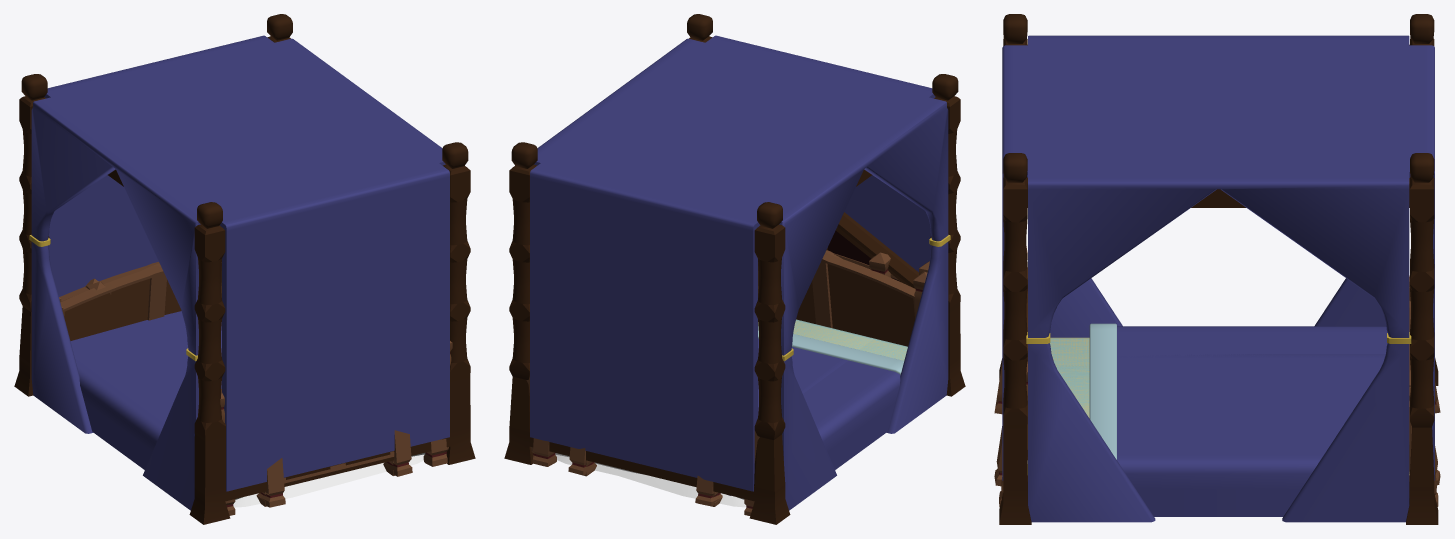
The model's file is Beds.fbx.
3 renders of one model, left to right at view 1: azimuth 30°, elevation 25°; view 2: azimuth 150°, elevation 25°; view 3: azimuth 270°, elevation 25°, orthographic. The views are drawn at different scales.
Visible parts, largest first — view 1: Bedframe03A, Blancket02A, Bedframe02Broken, Bedframe01Broken, HayBed, Blancket01A, Bedframe02; view 2: Bedframe03A, Blancket02A, Bedframe02Broken, Blancket01A, Bedframe01Broken, HayBed, Mattress01C, Mattress01B, Mattress02C, Bedframe02, Mattress02B; view 3: Bedframe03A, Blancket02A, Blancket01A, Mattress02C, Mattress02B, Bedframe01Broken.
Part boxes in pixels (x1=…): Bedframe03A: x1=14, y1=14, x2=475, y2=524; Blancket02A: x1=70, y1=311, x2=221, y2=469; Bedframe02Broken: x1=60, y1=265, x2=447, y2=466; Bedframe01Broken: x1=86, y1=262, x2=412, y2=507; HayBed: x1=233, y1=454, x2=424, y2=507; Blancket01A: x1=130, y1=311, x2=221, y2=356; Bedframe02: x1=59, y1=266, x2=452, y2=515; Bedframe03A: x1=504, y1=14, x2=965, y2=524; Blancket02A: x1=758, y1=327, x2=904, y2=469; Bedframe02Broken: x1=532, y1=253, x2=927, y2=466; Blancket01A: x1=728, y1=326, x2=851, y2=495; Bedframe01Broken: x1=568, y1=250, x2=890, y2=506; HayBed: x1=555, y1=455, x2=746, y2=507; Mattress01C: x1=758, y1=319, x2=875, y2=349; Mattress01B: x1=758, y1=321, x2=872, y2=349; Mattress02C: x1=859, y1=339, x2=907, y2=360; Bedframe02: x1=526, y1=253, x2=929, y2=515; Mattress02B: x1=859, y1=340, x2=907, y2=360; Bedframe03A: x1=999, y1=14, x2=1438, y2=524; Blancket02A: x1=1089, y1=323, x2=1387, y2=516; Blancket01A: x1=1089, y1=354, x2=1385, y2=429; Mattress02C: x1=1050, y1=338, x2=1089, y2=415; Mattress02B: x1=1050, y1=337, x2=1089, y2=404; Bedframe01Broken: x1=994, y1=267, x2=1440, y2=486.
Size of what is drawn, in the model's own units: 1.97 by 2.16 by 2.41.
